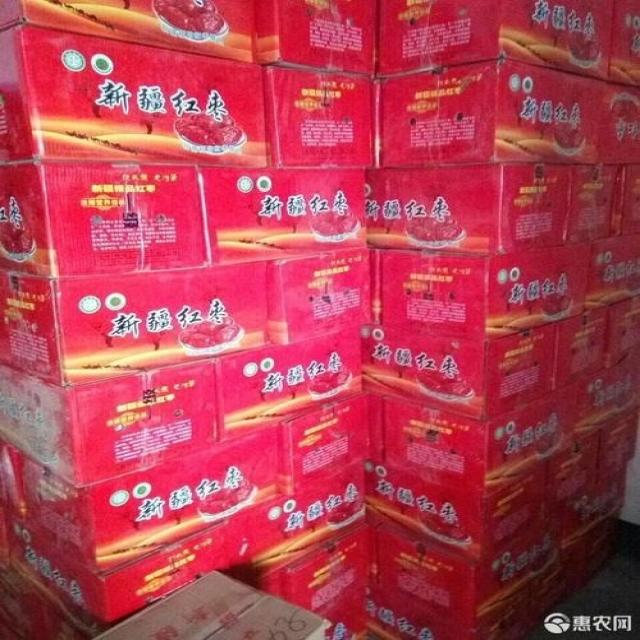box: (0, 467, 370, 639), (0, 421, 282, 577), (0, 21, 266, 168), (0, 262, 269, 389), (372, 57, 640, 169), (0, 357, 218, 488), (0, 158, 210, 279), (370, 513, 566, 639), (364, 164, 627, 256), (380, 381, 577, 498), (380, 240, 594, 340), (361, 321, 558, 422), (374, 0, 617, 81), (367, 462, 545, 562), (215, 326, 364, 445), (216, 527, 372, 640), (202, 165, 365, 268), (0, 1, 255, 64), (264, 66, 375, 168), (265, 248, 370, 345), (279, 391, 367, 500), (256, 0, 378, 78), (563, 467, 628, 600), (576, 351, 640, 445), (543, 430, 599, 524), (586, 233, 640, 315), (557, 305, 608, 388), (598, 407, 640, 492), (609, 0, 640, 87)
